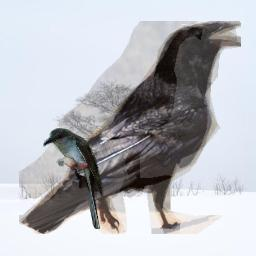Crow: (19, 21, 241, 234)
Cuckoo: (43, 128, 104, 229)
